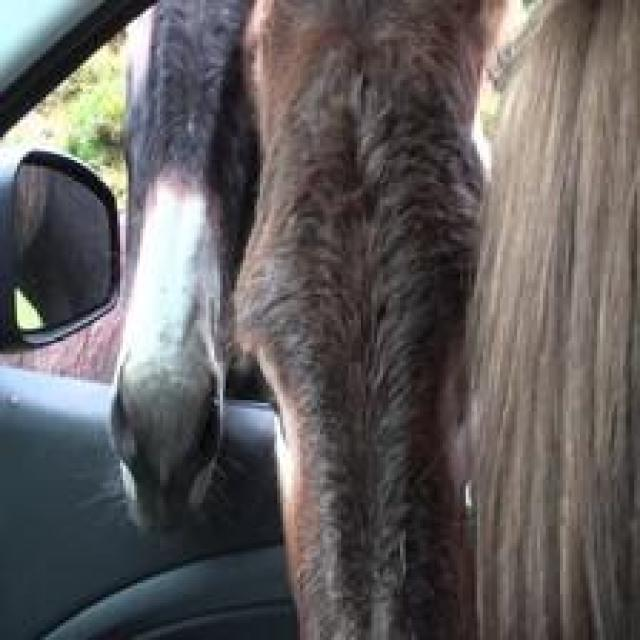Donkey: (106, 0, 517, 637)
